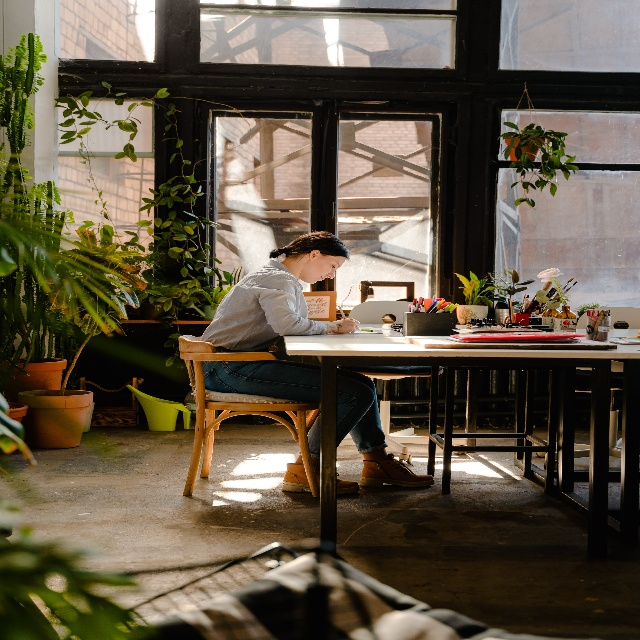Sin_guantes: (333, 320, 360, 331)
